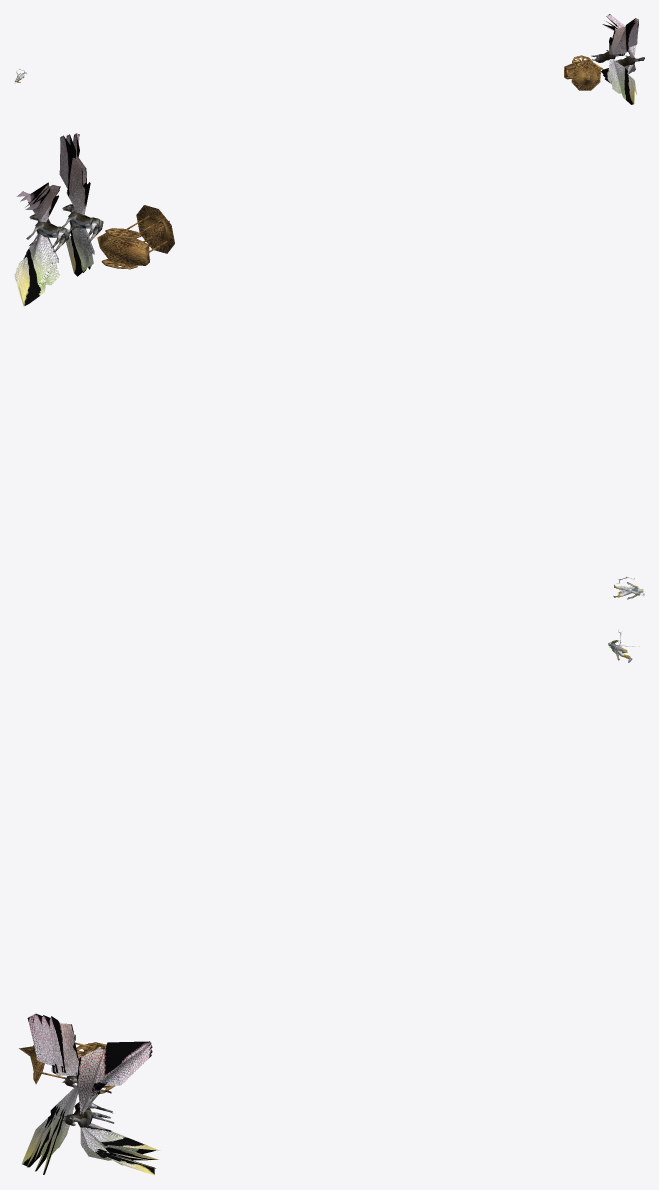
File: rama_001006.obj
3 renders of one model, top to bottom at view 1: azimuth 30°, elevation 25°; view 2: azimuth 150°, elevation 25°; view 3: azimuth 270°, elevation 25°, orthographic. The views are drawn at different scales.
Parts seen in each view (by area): view 1: wings_Plane.001, umbrella_Sphere, wings.001_Plane.000, Horse.001_objHorse_0.006, chariot_Cube.001, Horse.000_objHorse_0.005; view 2: wings.001_Plane.000, wings_Plane.001, umbrella_Sphere, chariot_Cube.001, Horse.001_objHorse_0.006; view 3: wings.001_Plane.000, wings_Plane.001.
Part boxes in pixels (x1,y1,x2,y2): wings_Plane.001: (608,18,638,104); umbrella_Sphere: (571,62,600,90); wings.001_Plane.000: (601,14,636,84); Horse.001_objHorse_0.006: (591,50,625,62); chariot_Cube.001: (564,60,603,79); Horse.000_objHorse_0.005: (615,55,644,66); wings.001_Plane.000: (14,182,60,306); wings_Plane.001: (59,133,94,276); umbrella_Sphere: (114,205,174,253); chariot_Cube.001: (97,233,150,265); Horse.001_objHorse_0.006: (58,204,103,243); wings.001_Plane.000: (76,1041,160,1175); wings_Plane.001: (21,1013,78,1174).
Bounding box in the file's own units: 84.11 × 13.38 × 45.63.
